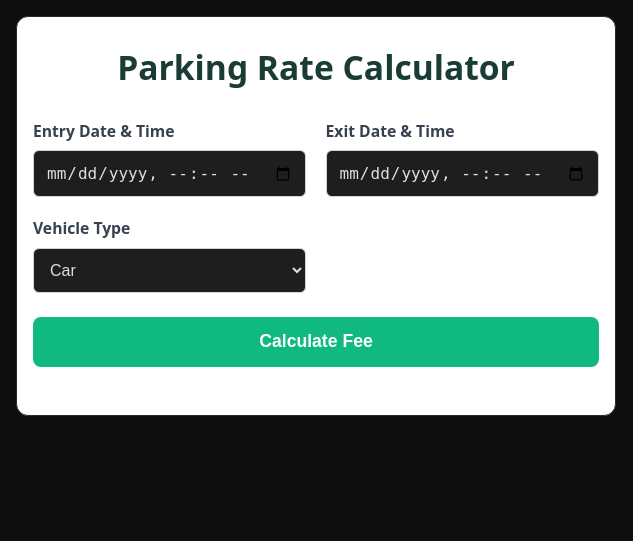
Test: Parking Rate Calculator › shows error when duration exceeds 3 days
The image size is (633, 541).
Type "2025-03-20T10:00" into the field labelled "Entry Date & Time". click: (170, 174)
box: left=33, top=150, right=306, bottom=197
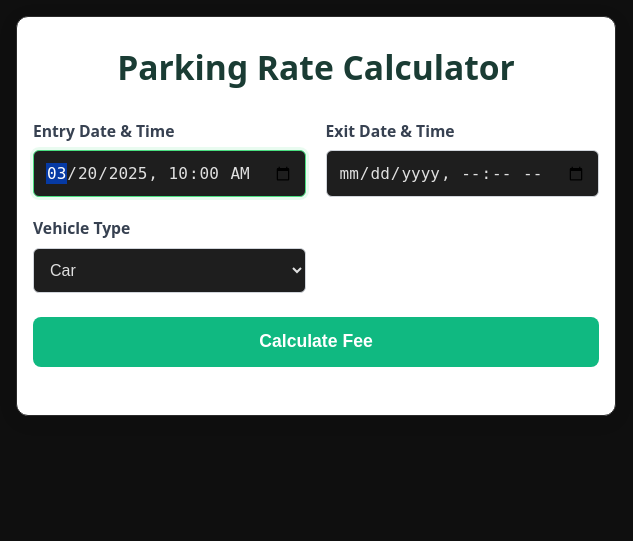
Type "2025-03-24T10:01" into the field labelled "Exit Date & Time". click: (462, 174)
box: left=326, top=150, right=599, bottom=197
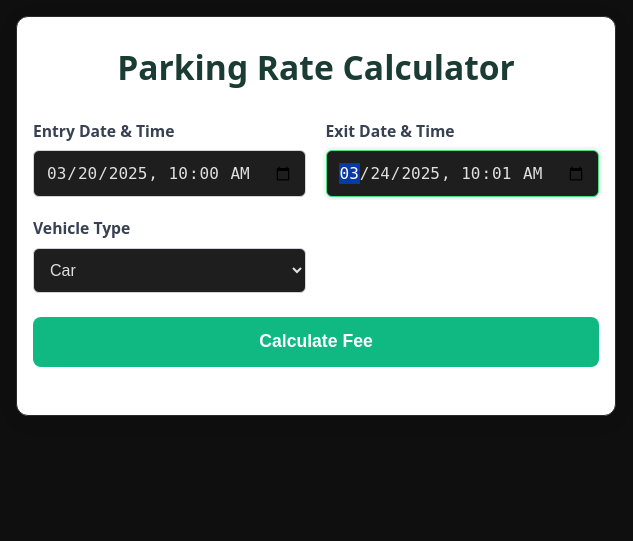
Click the button "Calculate Fee". click: (316, 342)
box: left=33, top=317, right=599, bottom=367
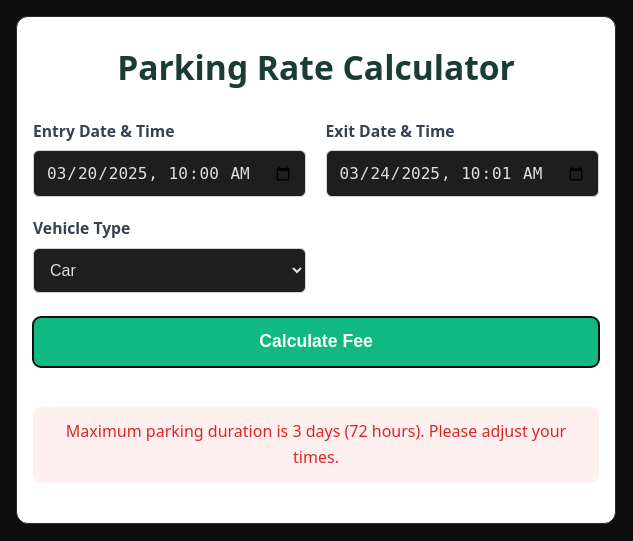
Now the text "Maximum parking duration is 3 days (72 hours). Please adjust your times." is shown, box left=33, top=407, right=599, bottom=484
